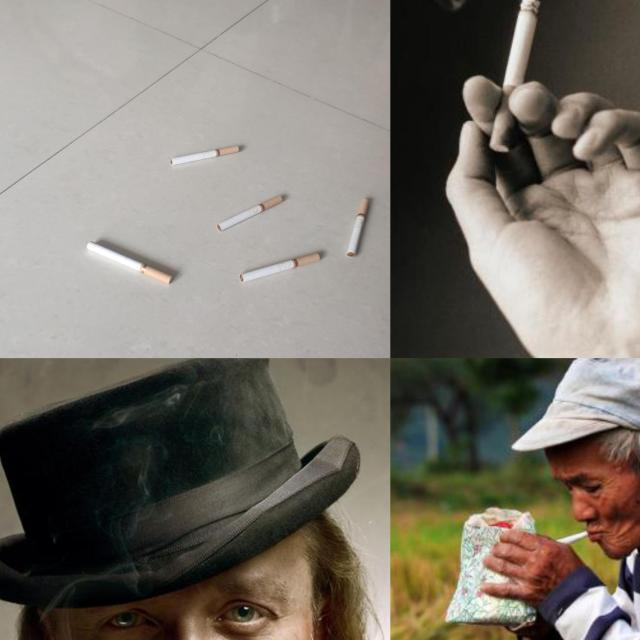smoking: (486, 0, 542, 159), (86, 241, 176, 285), (240, 252, 322, 284), (216, 194, 284, 232), (528, 524, 610, 550), (170, 146, 240, 166), (348, 198, 371, 258)
